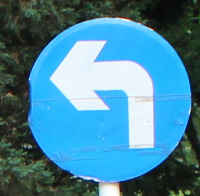left_turn: (27, 17, 191, 181)
